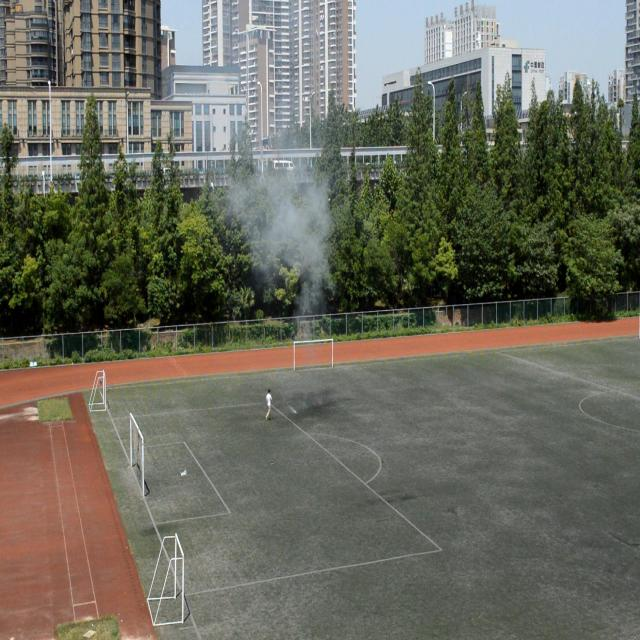smoke: (228, 150, 333, 299)
